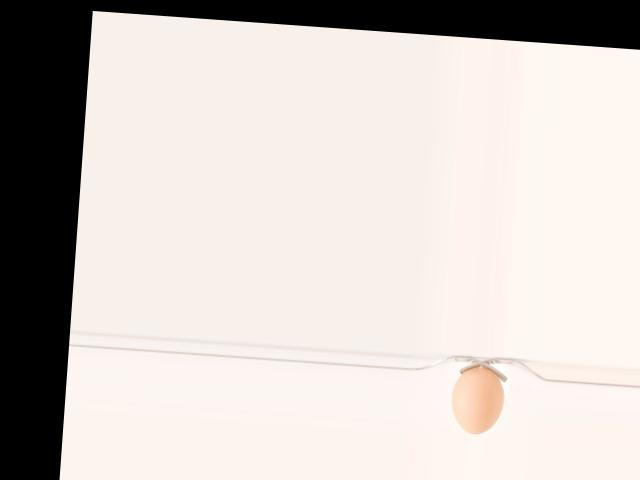egg: (448, 365, 505, 435)
